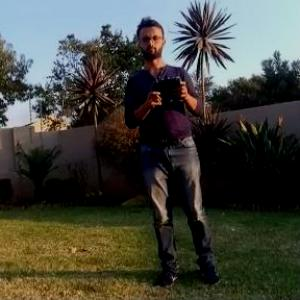follow: (118, 12, 226, 292)
